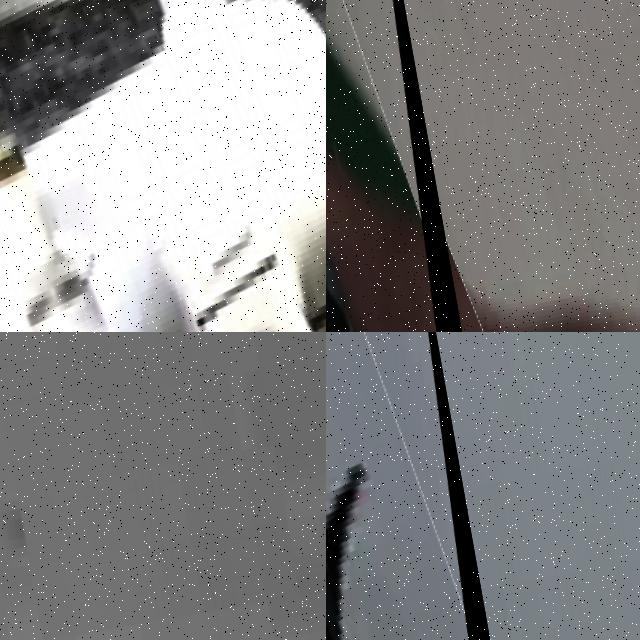drone: (0, 0, 326, 332), (326, 332, 522, 640), (326, 0, 477, 332)
